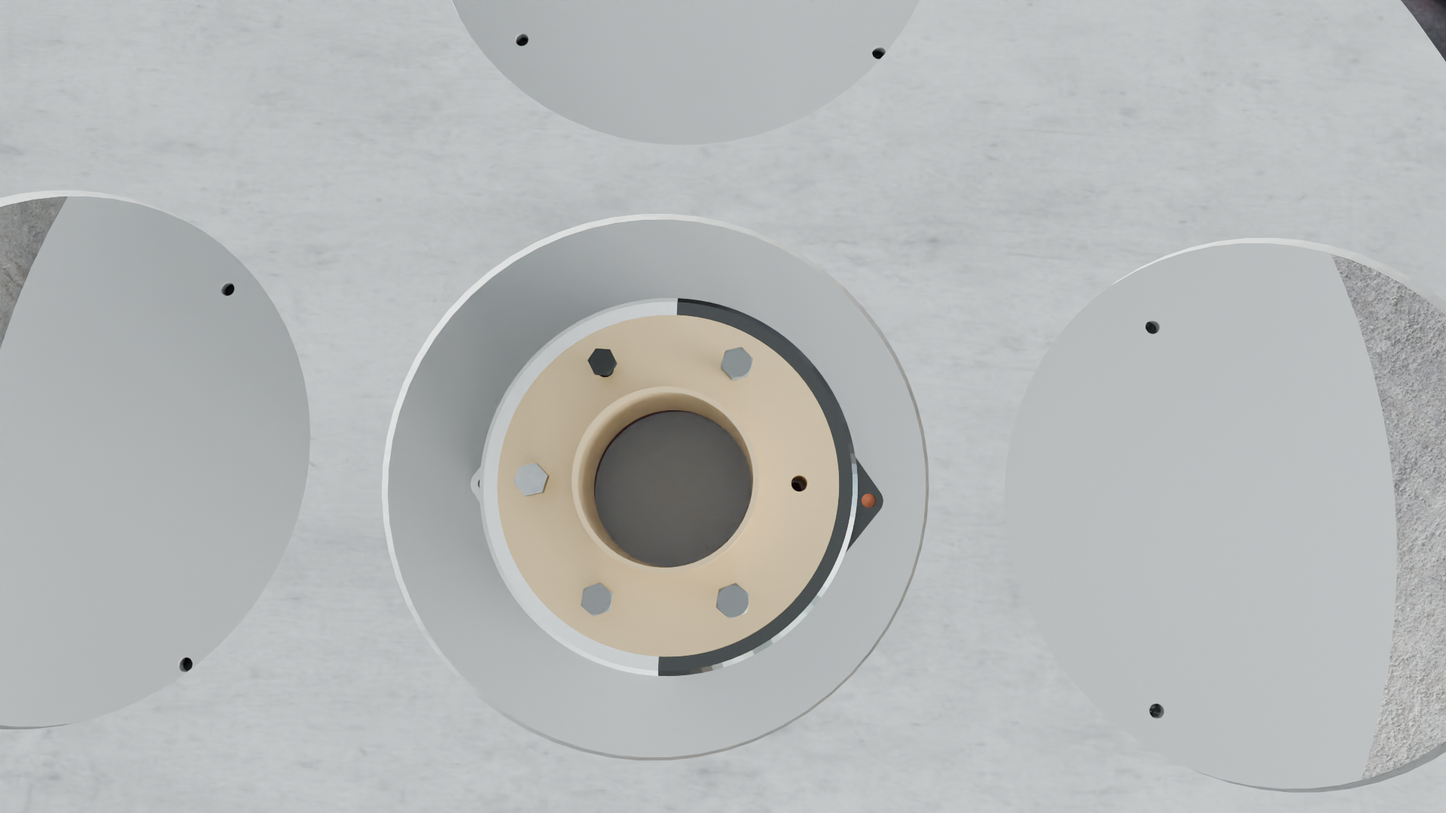bolt: (715, 583, 750, 620), (514, 463, 548, 496), (581, 583, 612, 617), (721, 347, 753, 379), (587, 349, 616, 374)
